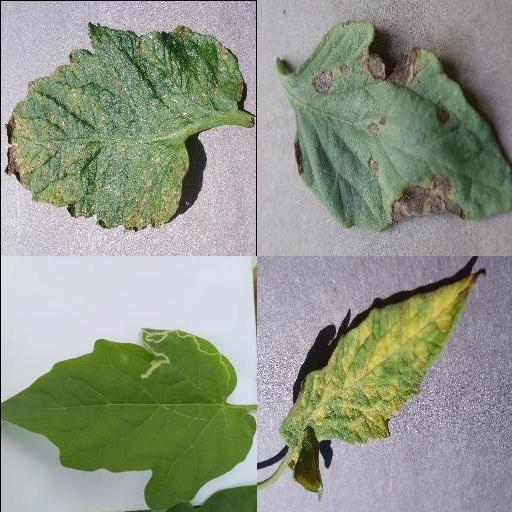Early Blight: (294, 20, 512, 232)
Leaf Miner: (0, 325, 256, 512)
Leaf Mold: (277, 268, 487, 446)
Septoria: (5, 24, 243, 231)
